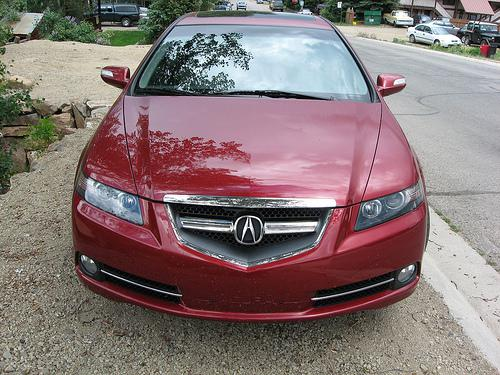Car: (55, 2, 458, 339)
